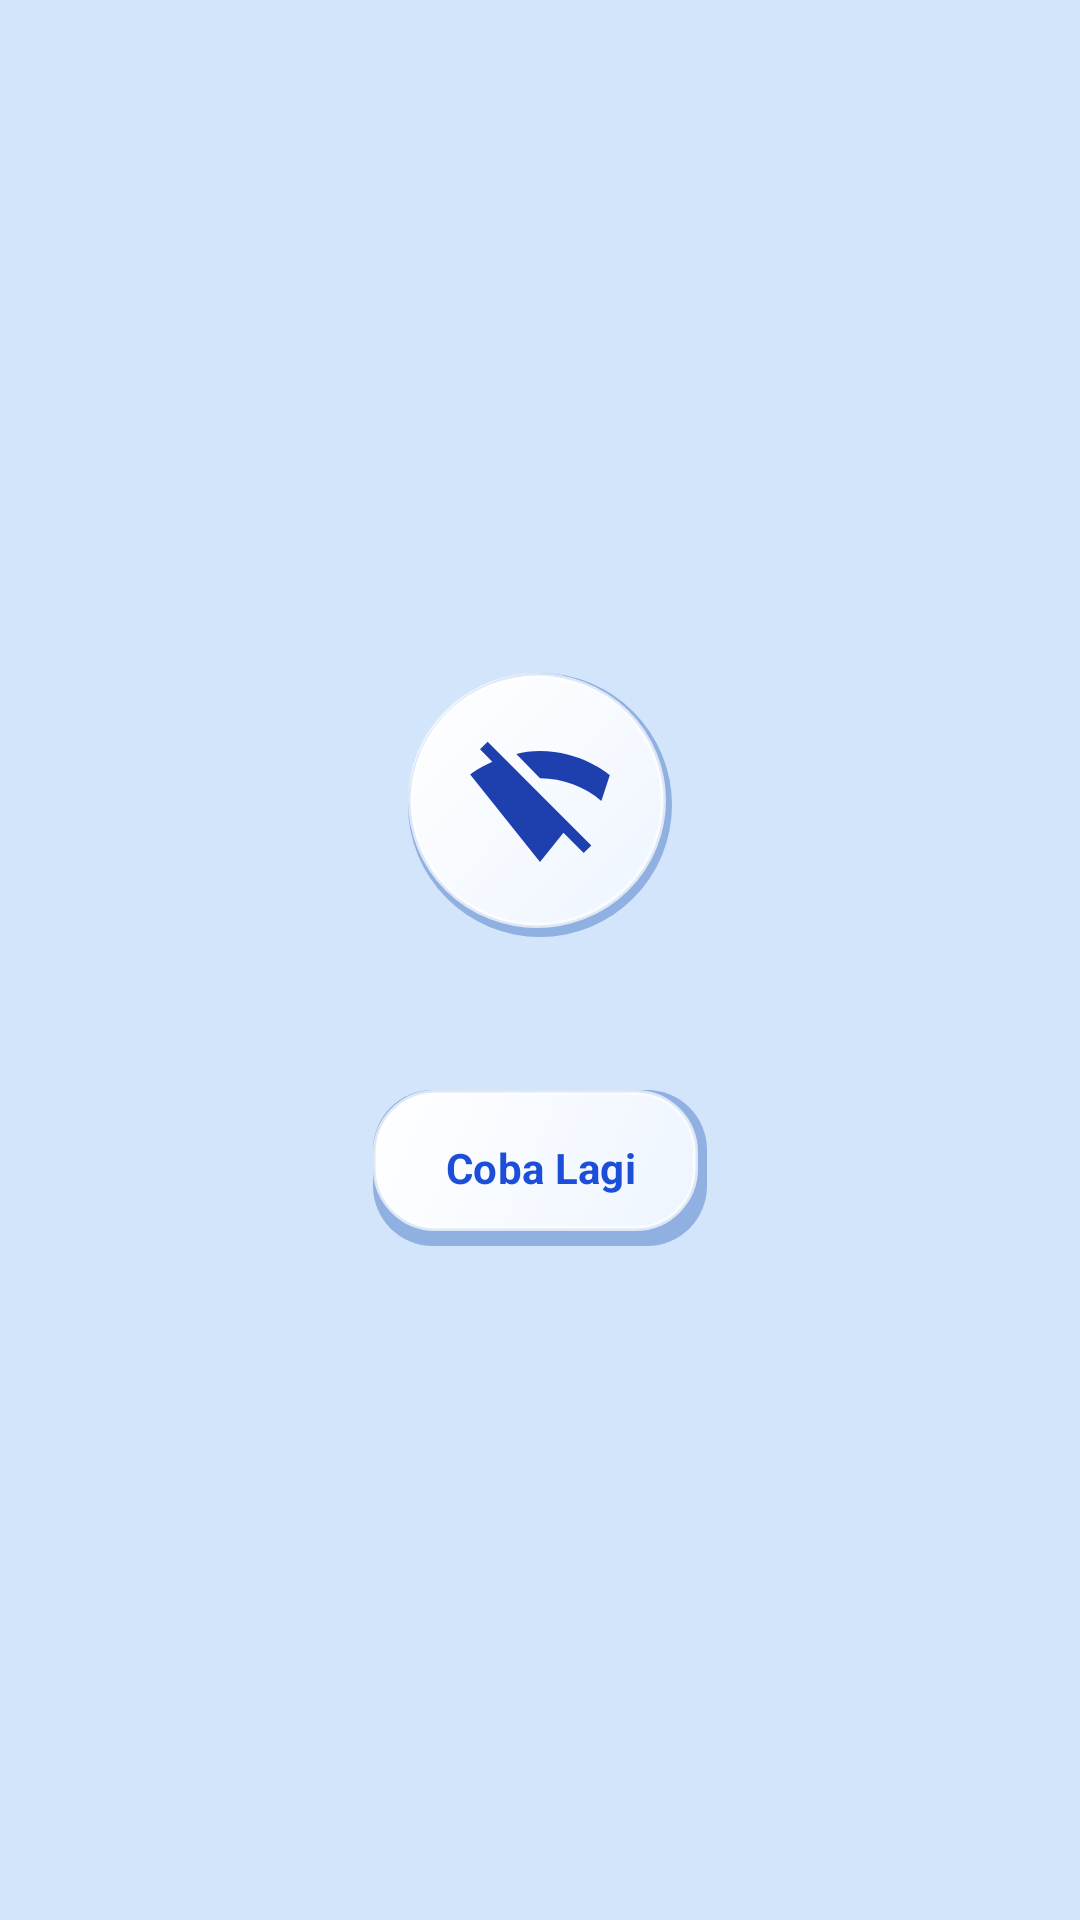

Icons on this 1080*1920 Android screen, each with the point to tap as (x,y):
Terjadi kesalahan, coba lagi: (540,802)
